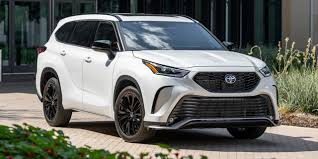car: (33, 13, 278, 142)
